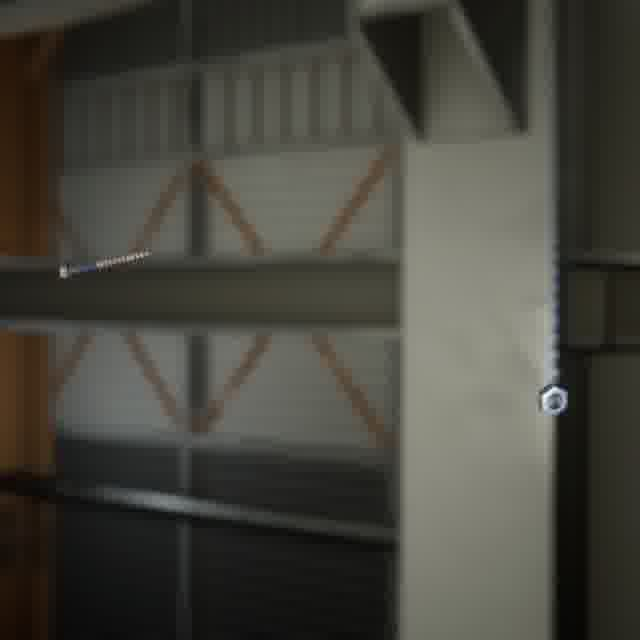bolt: (54, 246, 157, 288)
nut: (532, 378, 572, 421)
